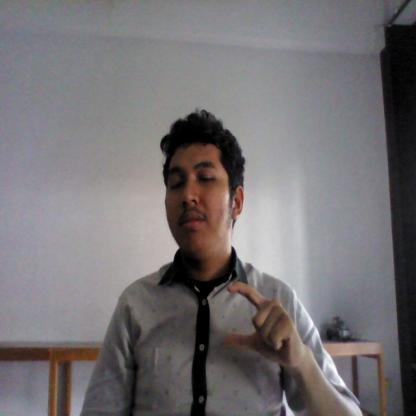C: (223, 280, 308, 374)
